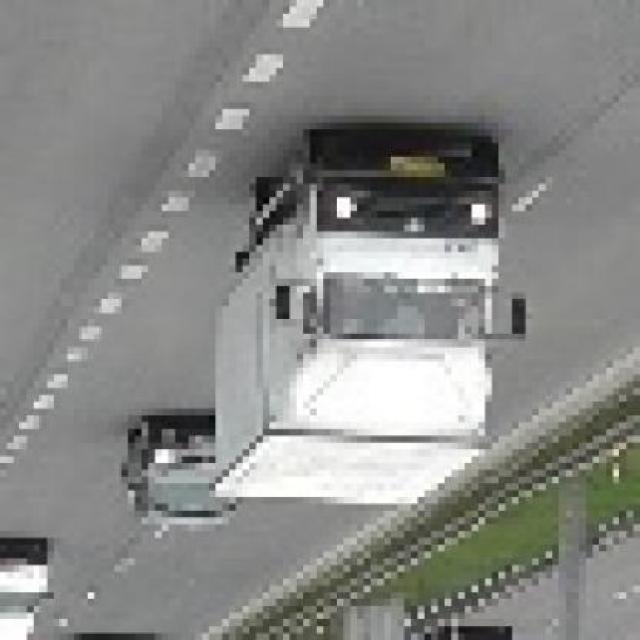truck: (217, 144, 534, 512)
